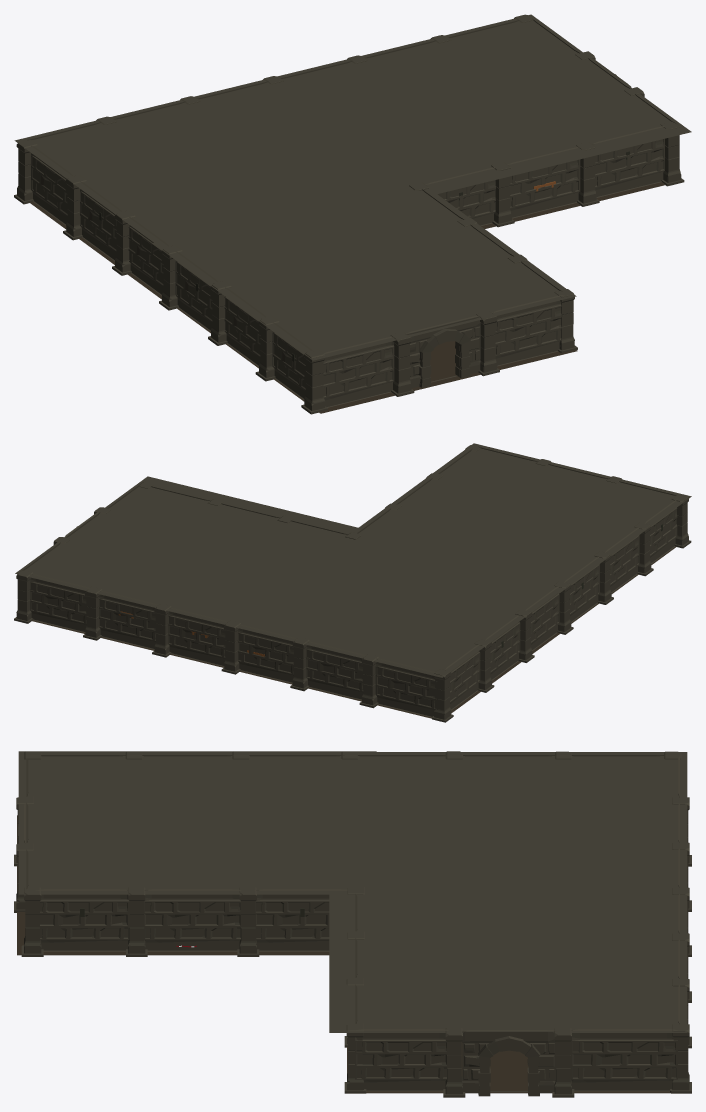
Rendered from 3komnata1lvl.fbx.
3 views of the same model, one above another, from view 1: azimuth 30°, elevation 25°; view 2: azimuth 150°, elevation 25°; view 3: azimuth 270°, elevation 25° (orthographic). The views are drawn at different scales.
Visible parts, largest first — view 1: криша2.2, Plane.029, Plane.033, Plane.040, Plane.032, Plane.031, Plane.234, Plane.015, Plane.008, Plane.025, Plane.017, Plane.034 (+16 smaller); view 2: криша2.2, Plane.018, Plane.021, Plane.019, Plane.022, Plane.023, Plane.020, Plane.015, Plane.008, Plane.025, Plane.017, Plane.040 (+16 smaller); view 3: криша2.2, Plane.027, Plane.036, Plane.037, Plane.028, Plane.035, Plane.233, Plane.040, Cube.035, Cube.032, Cube.025, Cube.026 (+3 smaller).
Boxes of the visible parts, bbox=[...] form: криша2.2: bbox=[14, 14, 691, 360]; Plane.029: bbox=[323, 336, 394, 407]; Plane.033: bbox=[492, 295, 564, 366]; Plane.040: bbox=[29, 182, 665, 413]; Plane.032: bbox=[592, 126, 664, 197]; Plane.031: bbox=[507, 147, 580, 218]; Plane.234: bbox=[406, 316, 480, 388]; Plane.015: bbox=[31, 145, 72, 225]; Plane.008: bbox=[80, 181, 121, 261]; Plane.025: bbox=[224, 287, 265, 366]; Plane.017: bbox=[128, 217, 168, 295]; Plane.034: bbox=[425, 167, 495, 225]; криша2.2: bbox=[15, 443, 691, 677]; Plane.018: bbox=[375, 658, 437, 717]; Plane.021: bbox=[168, 607, 227, 666]; Plane.019: bbox=[306, 641, 365, 700]; Plane.022: bbox=[98, 590, 158, 649]; Plane.023: bbox=[30, 574, 89, 632]; Plane.020: bbox=[237, 624, 296, 683]; Plane.015: bbox=[445, 644, 480, 710]; Plane.008: bbox=[485, 615, 520, 680]; Plane.025: bbox=[605, 528, 639, 592]; Plane.017: bbox=[525, 586, 559, 650]; Plane.040: bbox=[32, 546, 676, 718]; криша2.2: bbox=[18, 751, 687, 1032]; Plane.027: bbox=[570, 1029, 678, 1091]; Plane.036: bbox=[143, 889, 241, 951]; Plane.037: bbox=[36, 889, 129, 951]; Plane.028: bbox=[355, 1029, 448, 1091]; Plane.035: bbox=[254, 889, 347, 951]; Plane.233: bbox=[462, 1031, 555, 1096]; Plane.040: bbox=[17, 815, 682, 1093]; Cube.035: bbox=[126, 887, 147, 956]; Cube.032: bbox=[21, 887, 43, 956]; Cube.025: bbox=[443, 1028, 465, 1097]; Cube.026: bbox=[552, 1028, 574, 1097].
Bounding box in the file's own units: 7826 × 825 × 7851.
